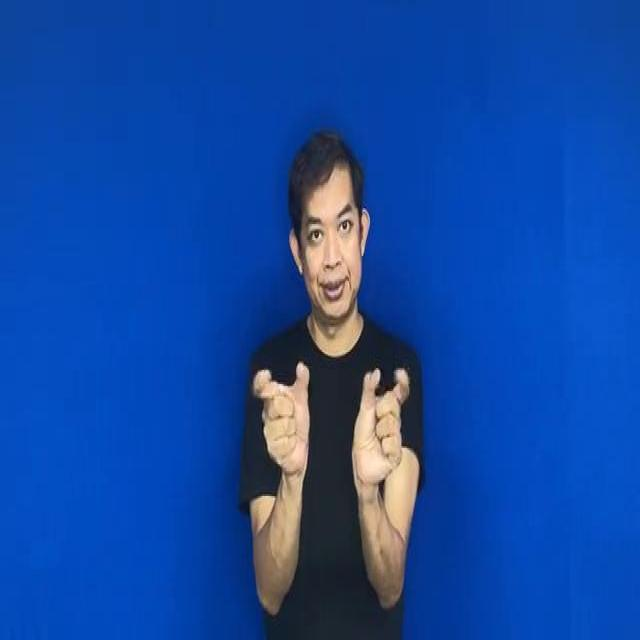crab: (247, 342, 413, 484)
